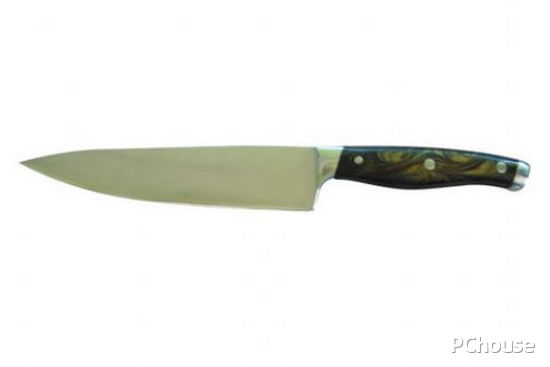knief: (11, 137, 534, 207)
